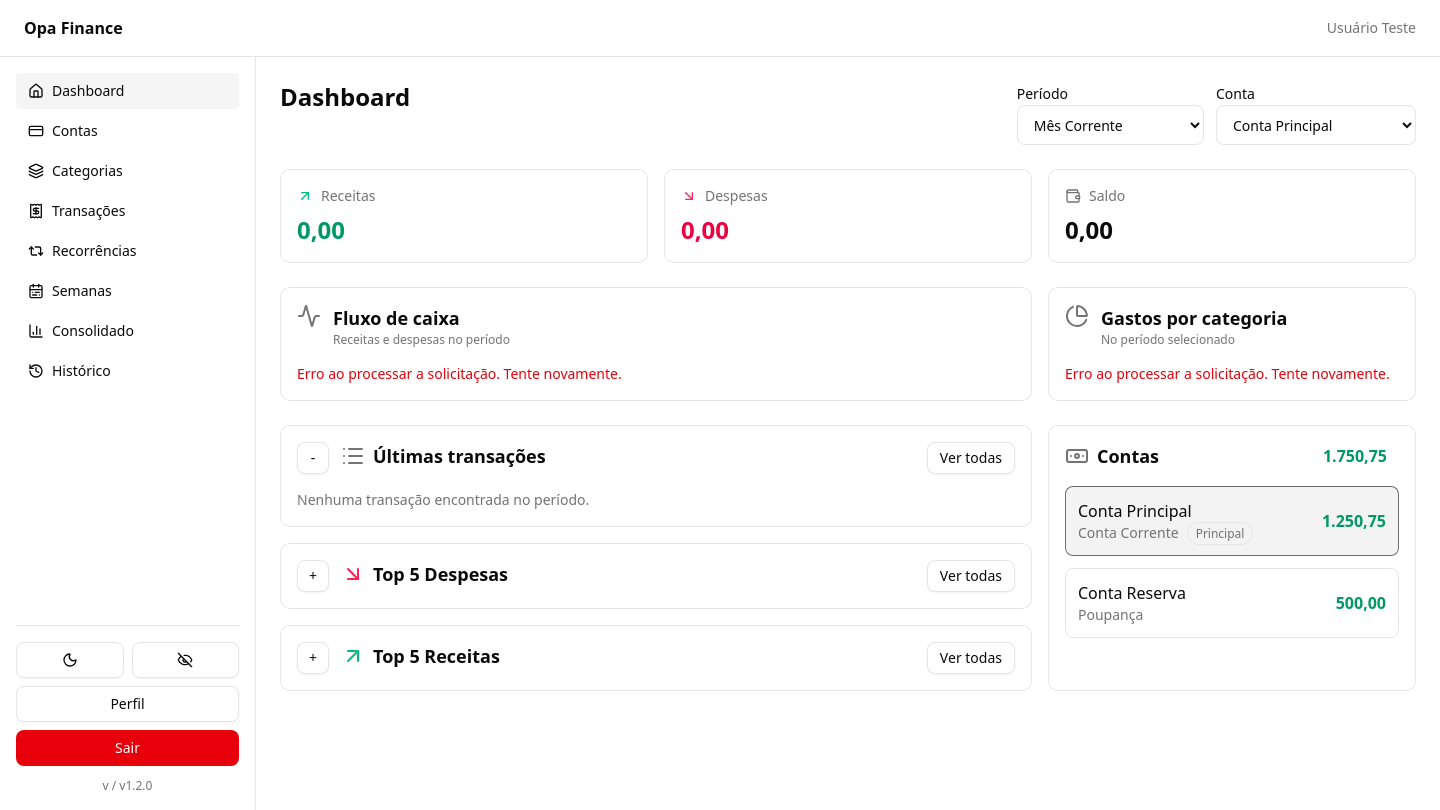
Test: dashboard integration › deve mostrar estados vazios nas listas e cards do dashboard
Check: the heading "Dashboard" is shown, box [280, 81, 410, 113]
Check: the text "Nenhuma transação encontrada no período." is shown, box [297, 490, 589, 509]
Click the button named "Expandir Top 5 Despesas": (313, 576) [297, 560, 329, 592]
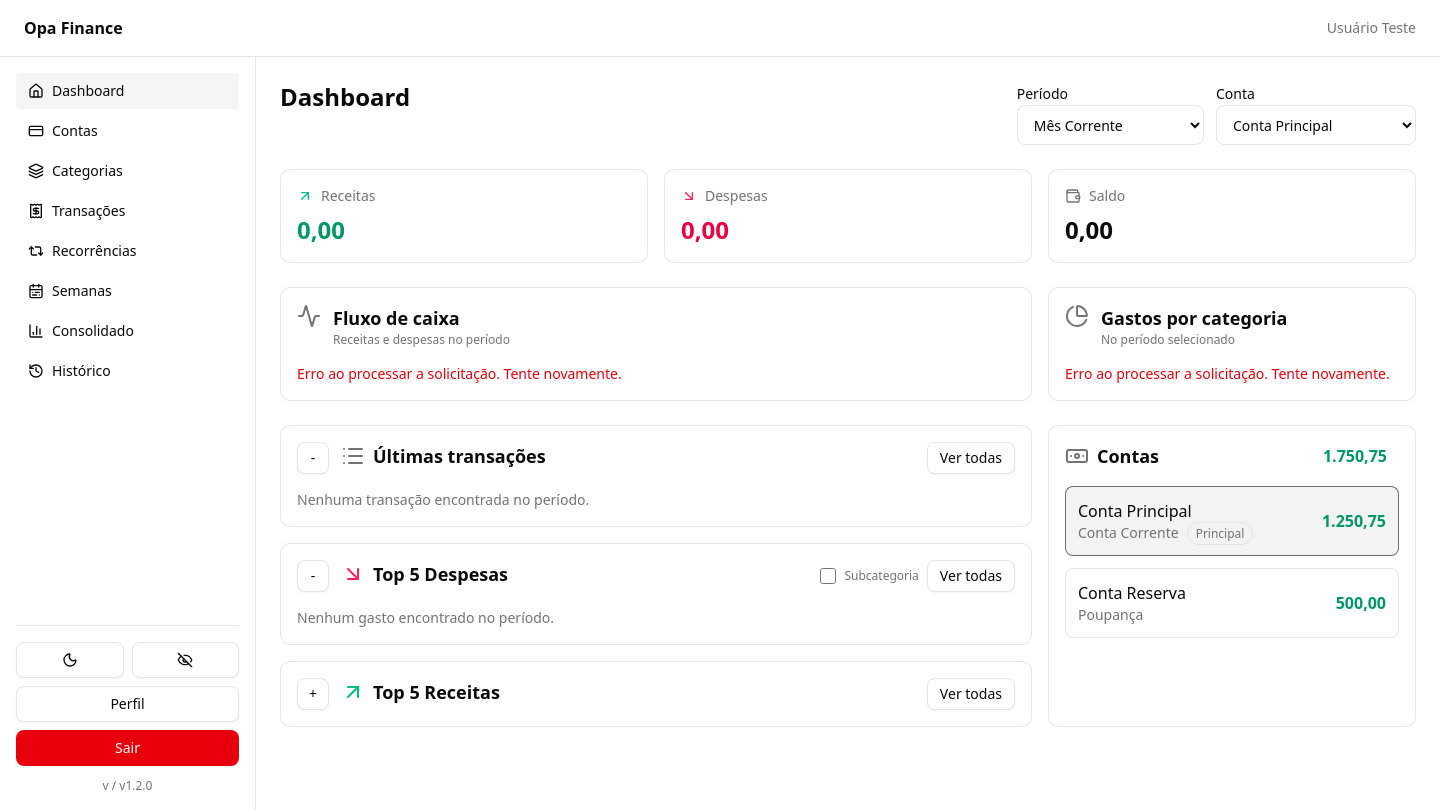
Check: the text "Nenhum gasto encontrado no período." is shown, box [297, 608, 554, 627]
Click the button named "Expandir Top 5 Receitas": (313, 694) [297, 678, 329, 710]
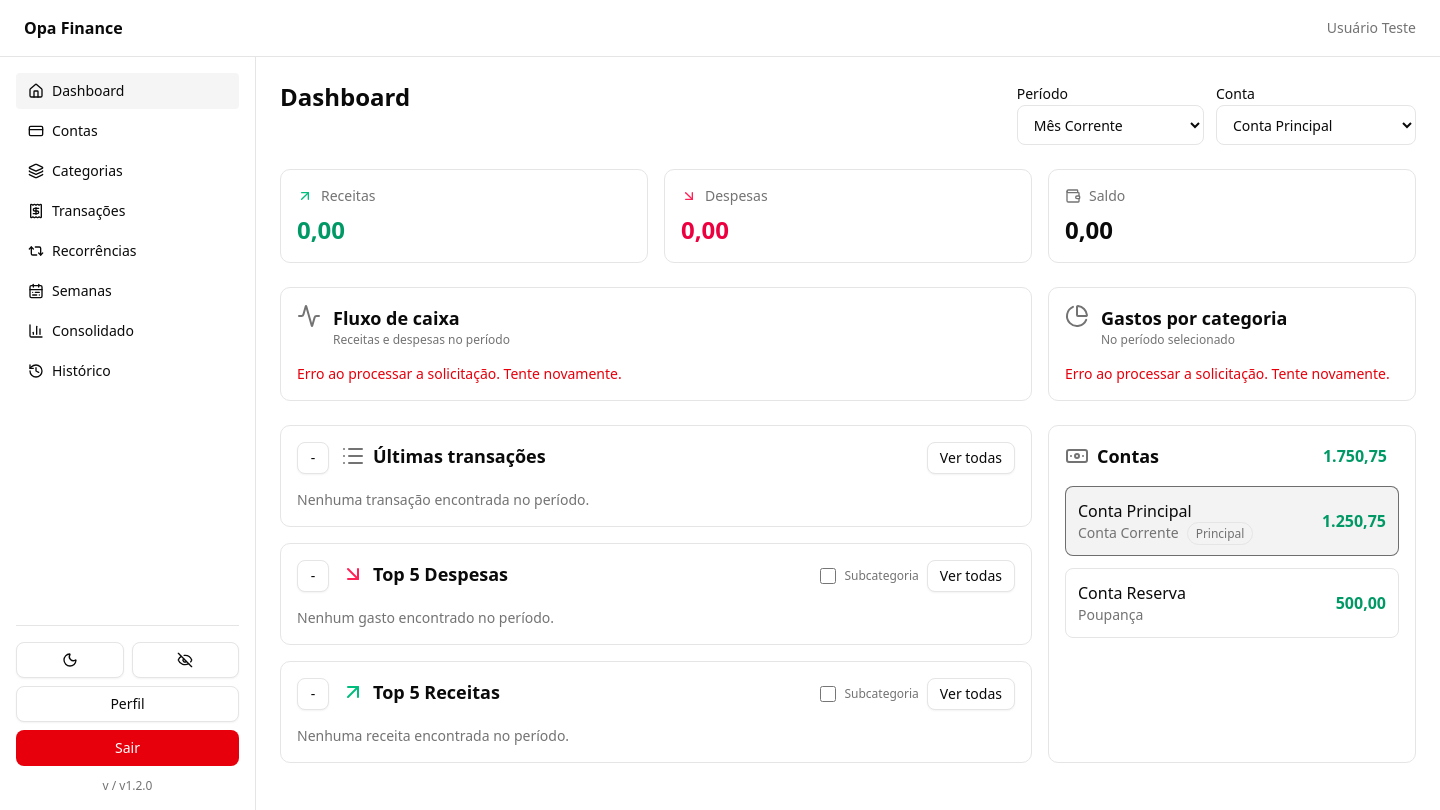
Check: the text "Nenhuma receita encontrada no período." is shown, box [297, 726, 569, 745]
